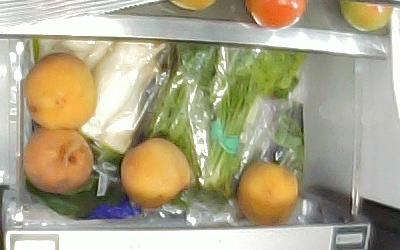peach: (26, 53, 96, 132), (121, 138, 192, 208), (21, 128, 94, 195), (238, 161, 299, 220)
